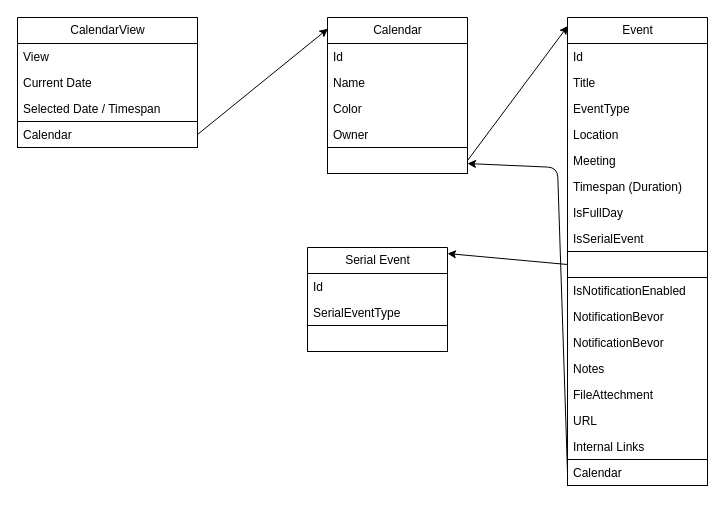
This 725x506 diagram has some shape labels left out. Each missing label, with the box of its shape:
DataProvider: (306, 324, 448, 352)
Events: (326, 146, 468, 174)
SerialEvent: (566, 250, 708, 278)
